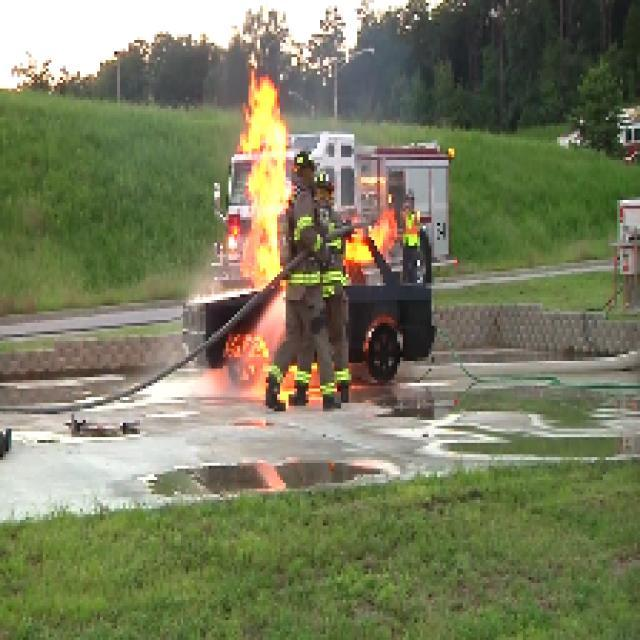Fire: (246, 70, 286, 275)
